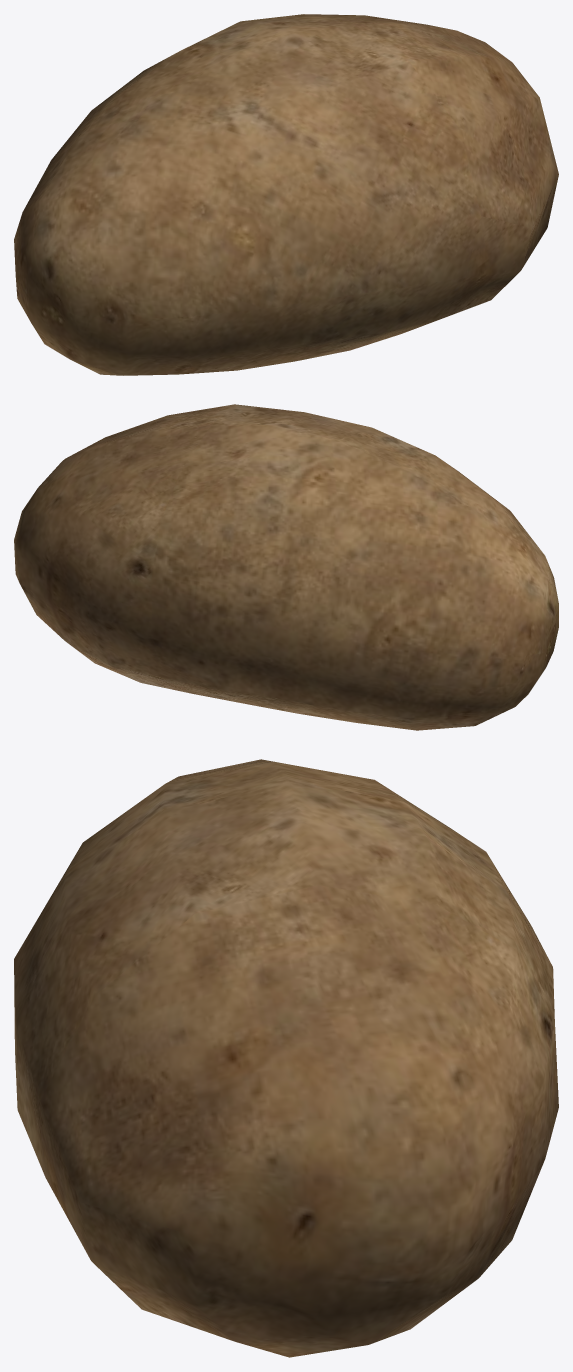
The model's file is A58_Potato_low.fbx.
3 renders of one model, top to bottom at view 1: azimuth 30°, elevation 25°; view 2: azimuth 150°, elevation 25°; view 3: azimuth 270°, elevation 25°, orthographic. The views are drawn at different scales.
Parts seen in each view (by area): view 1: A58_Potato_low; view 2: A58_Potato_low; view 3: A58_Potato_low.
Part boxes in pixels (x1=…): A58_Potato_low: x1=14, y1=14, x2=558, y2=375; A58_Potato_low: x1=14, y1=404, x2=558, y2=730; A58_Potato_low: x1=14, y1=759, x2=558, y2=1357.
Bounding box in the file's own units: 6.7 × 4.11 × 3.55.
1 material, 1 textured.
